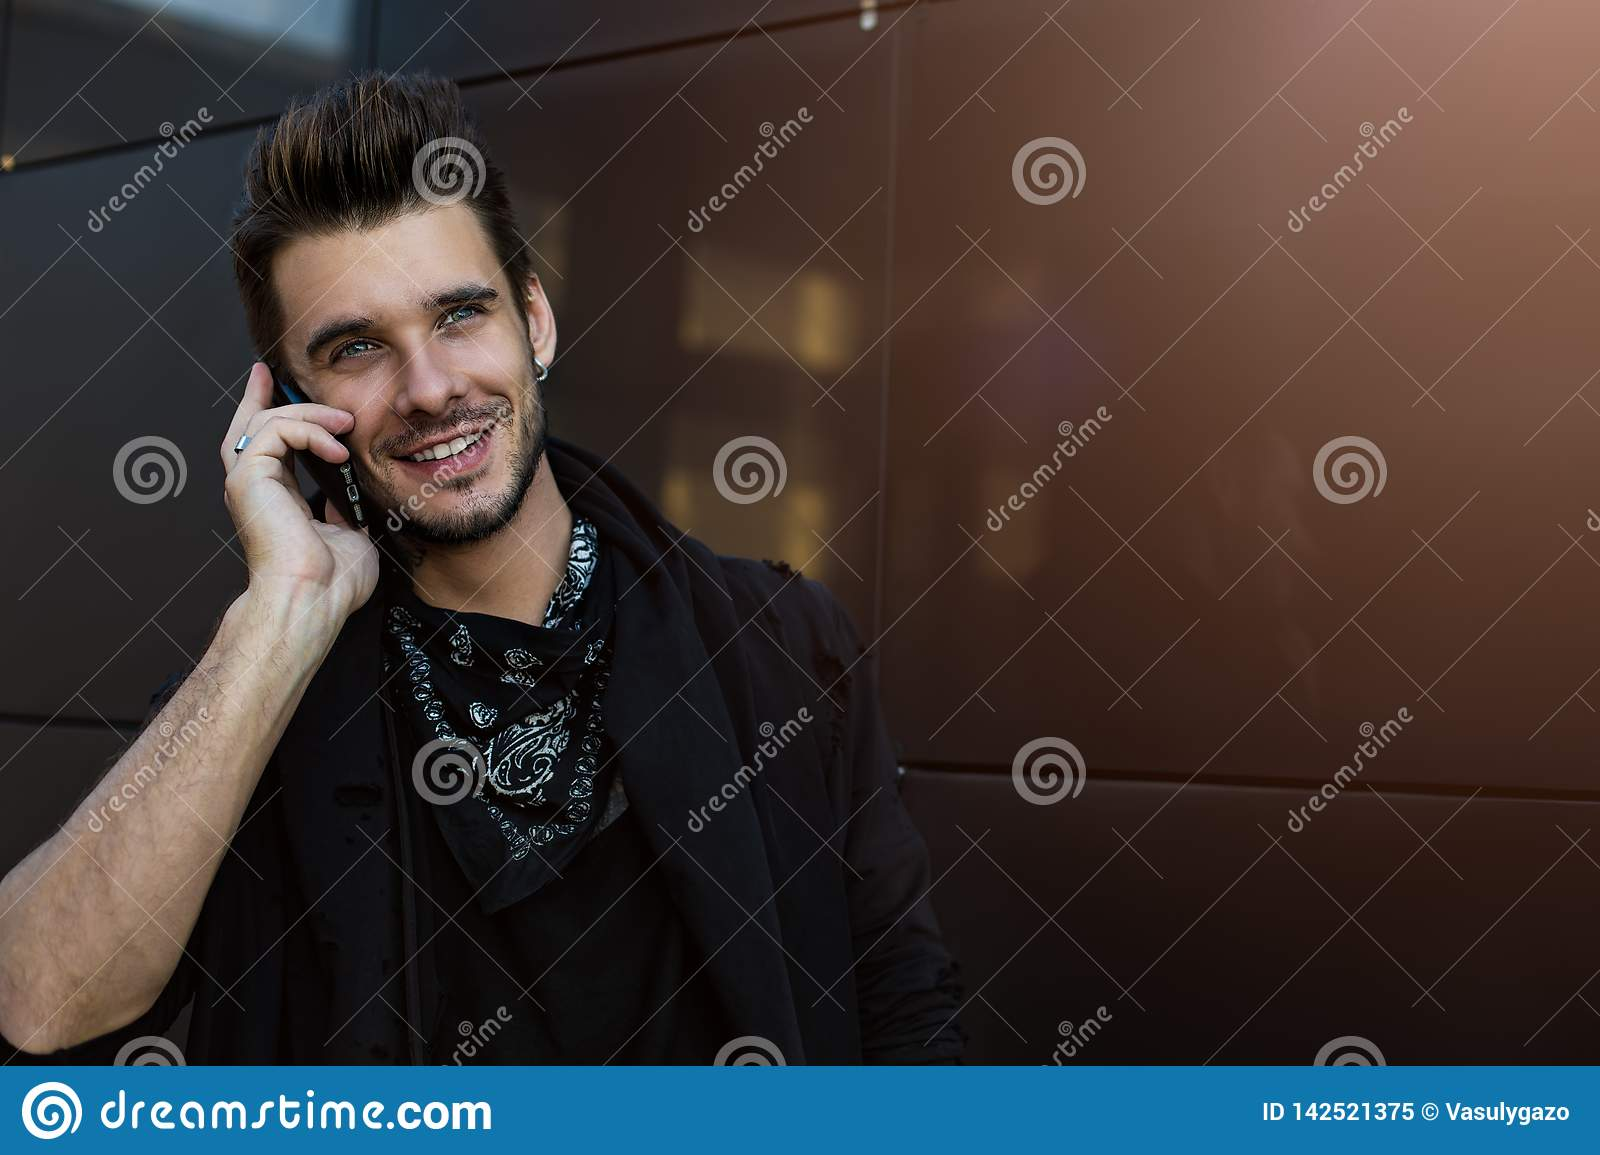phone: (263, 366, 368, 533)
talk: (215, 269, 532, 659)
